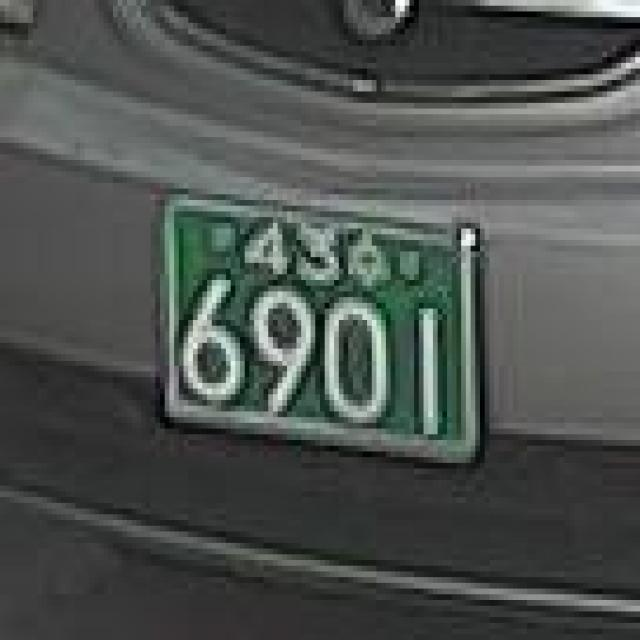illegal_plate: (146, 180, 496, 483)
